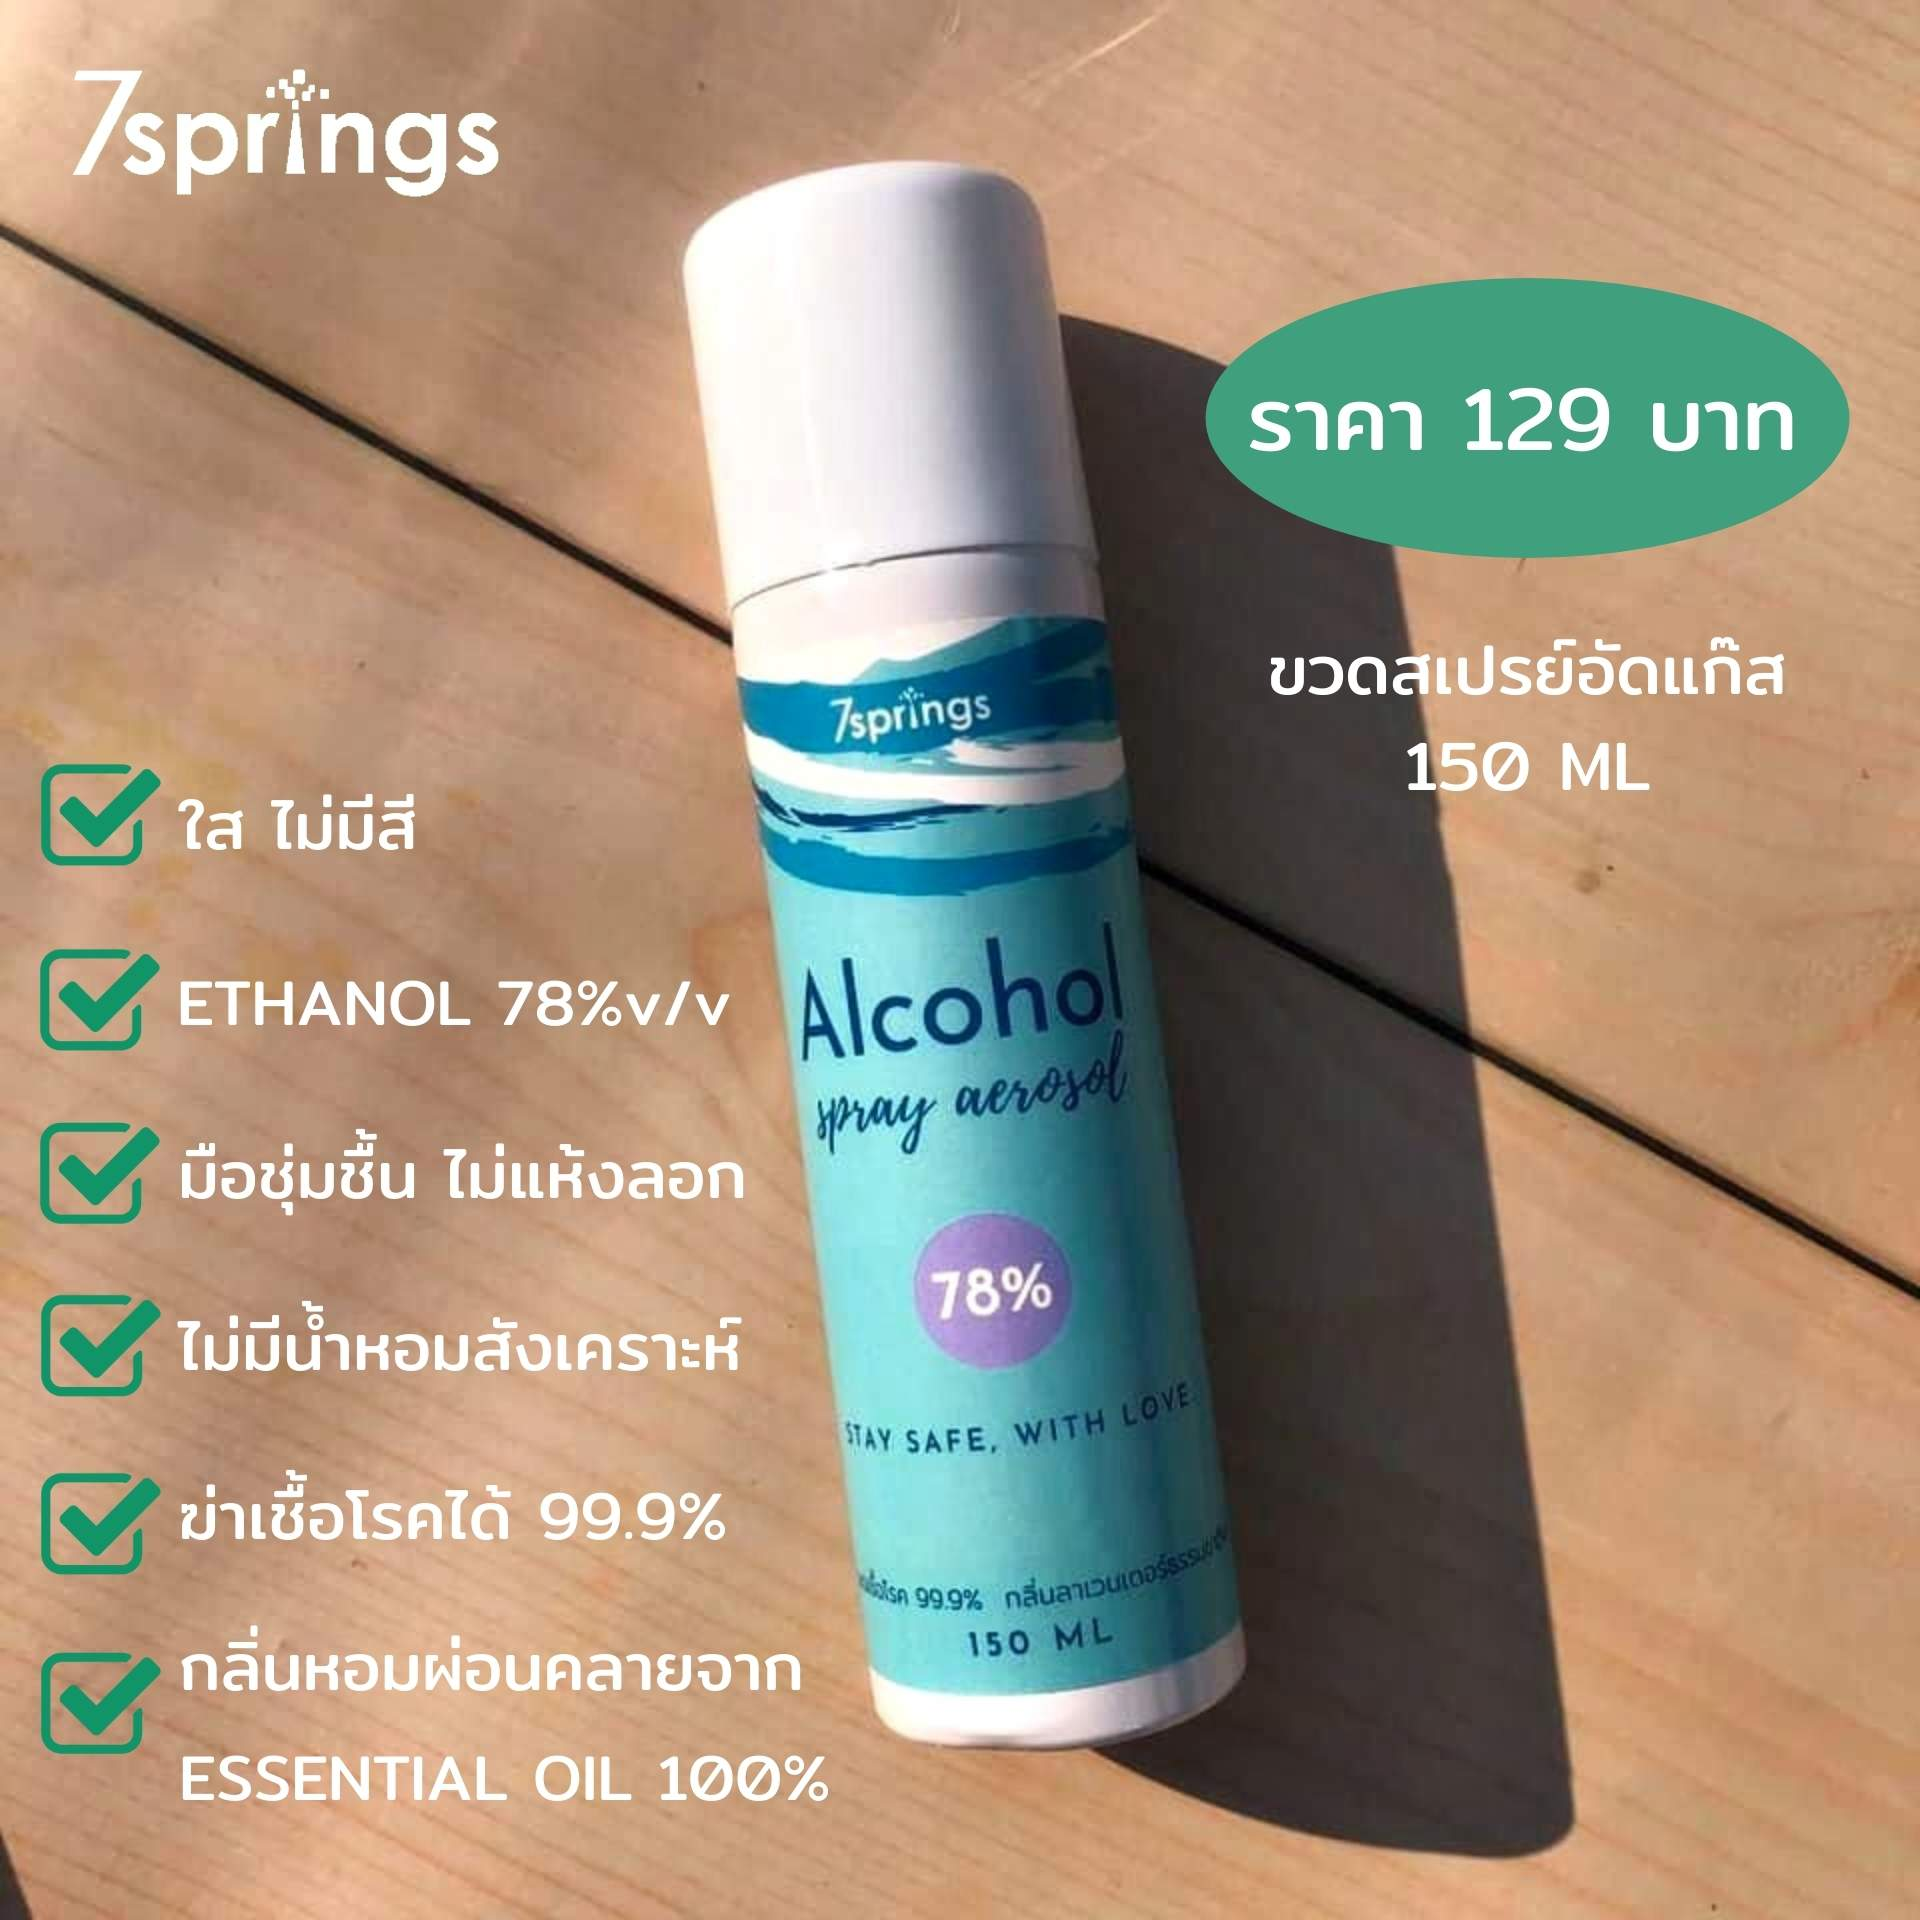Aerosol_cans: (668, 151, 1264, 1762)
